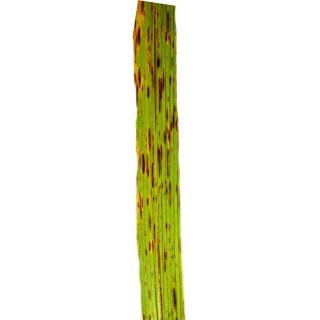Bercak-Cokelat-Sempit: (136, 229, 184, 320), (136, 145, 180, 221), (151, 7, 159, 135)
